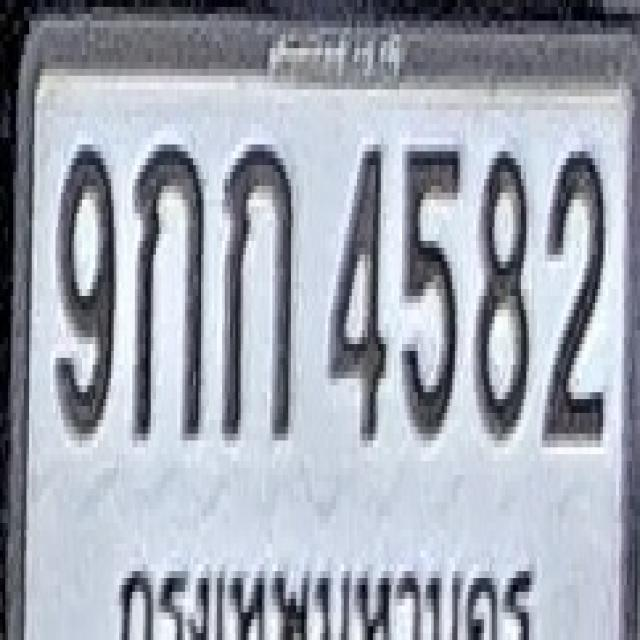2: (544, 144, 604, 440)
4: (328, 137, 386, 440)
5: (402, 141, 460, 437)
8: (474, 144, 528, 433)
9: (55, 141, 114, 437)
A01: (222, 137, 294, 440), (132, 137, 204, 440)
